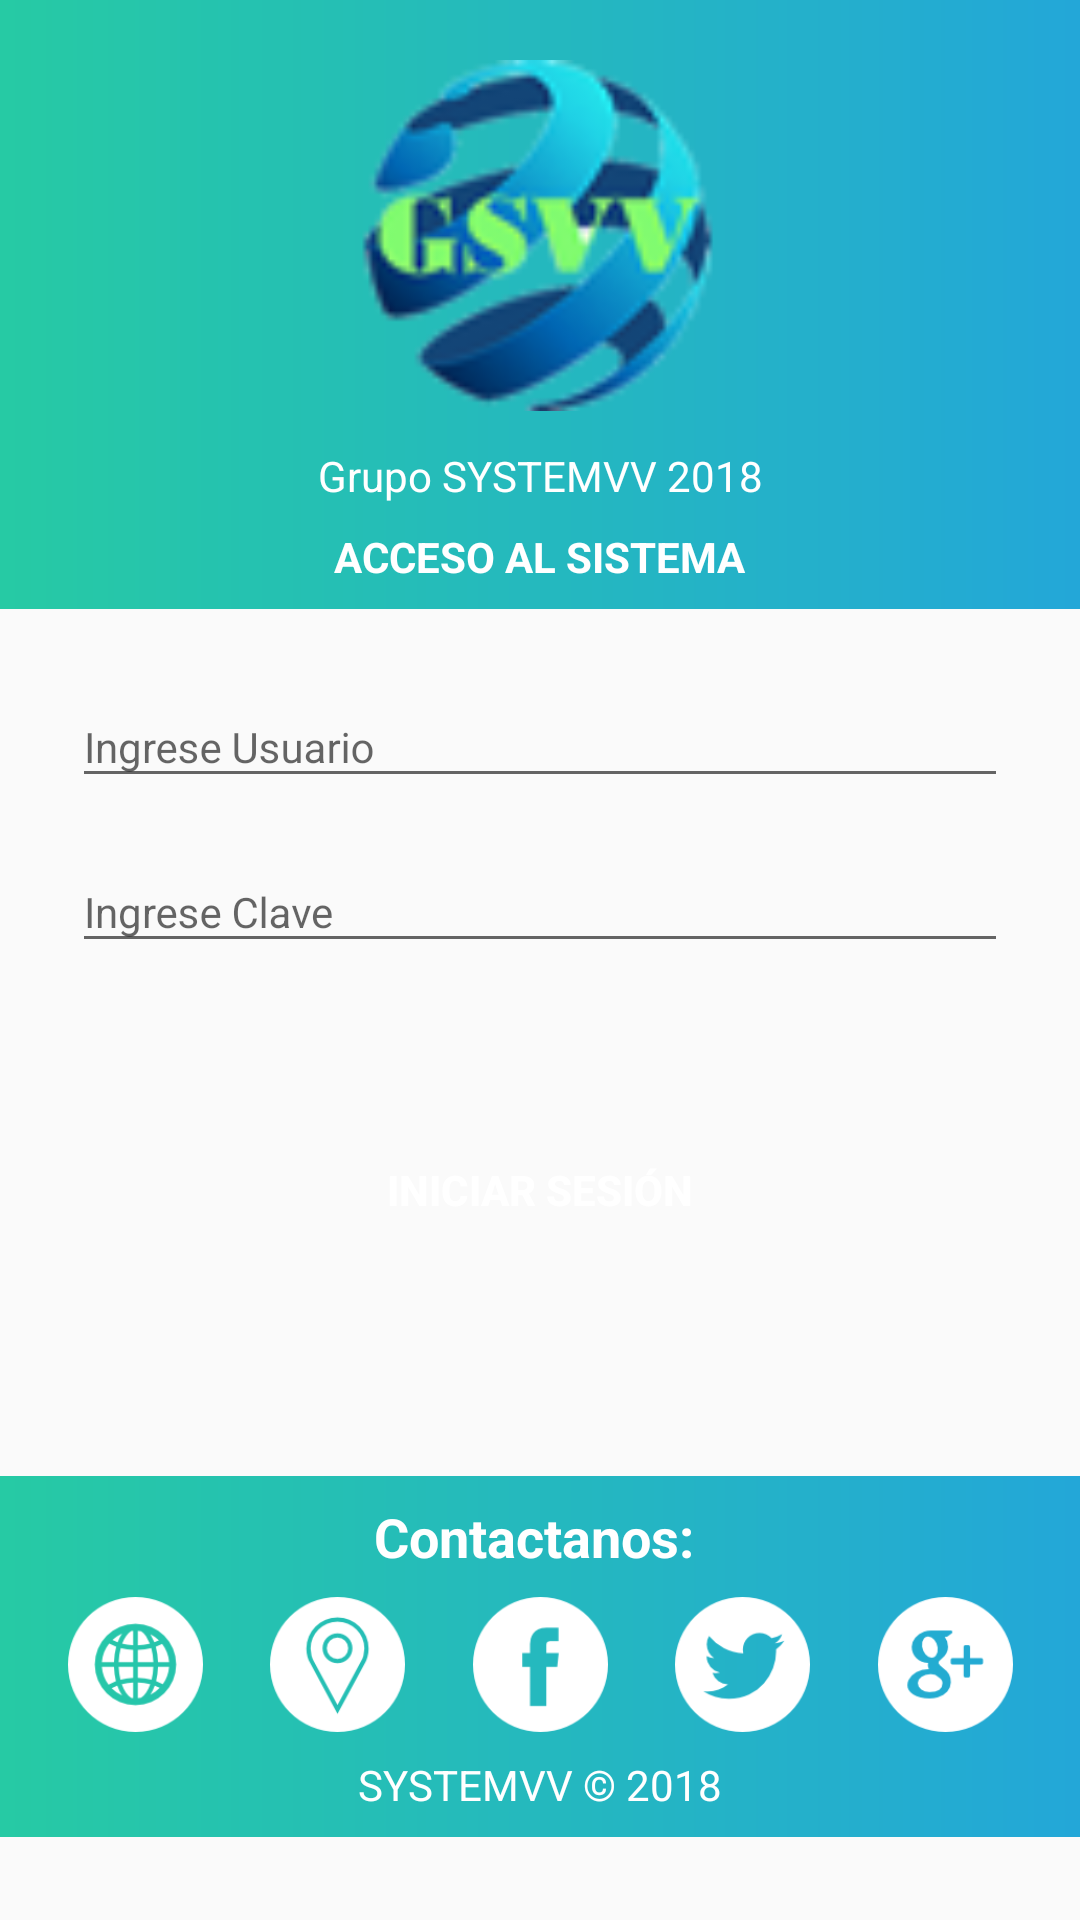

Named icons in this screenshot (1080w x 1920h) and their bounding boxes, (x1, y1, x2, y2):
internet: (68, 1597, 203, 1732)
